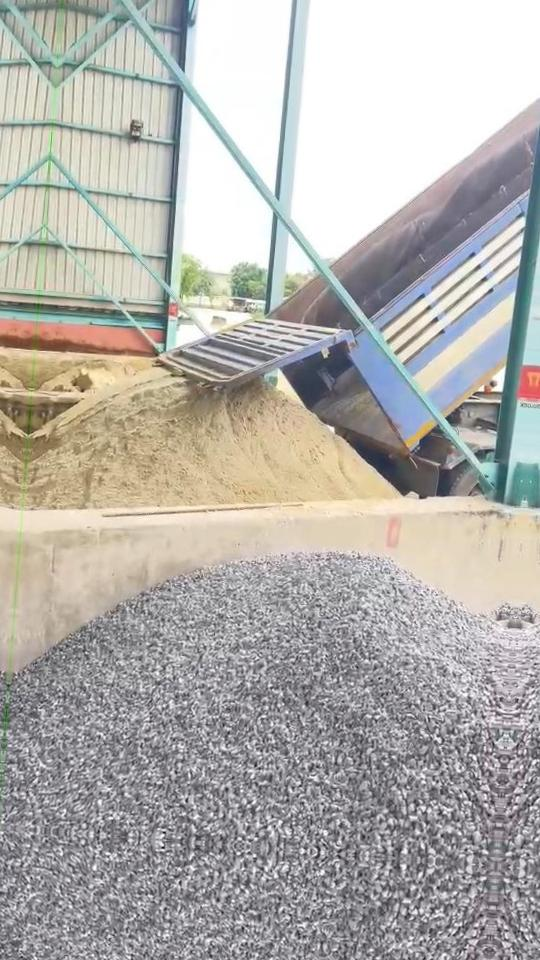gravel: (1, 554, 514, 865)
sand: (26, 369, 396, 507), (42, 361, 135, 393)
